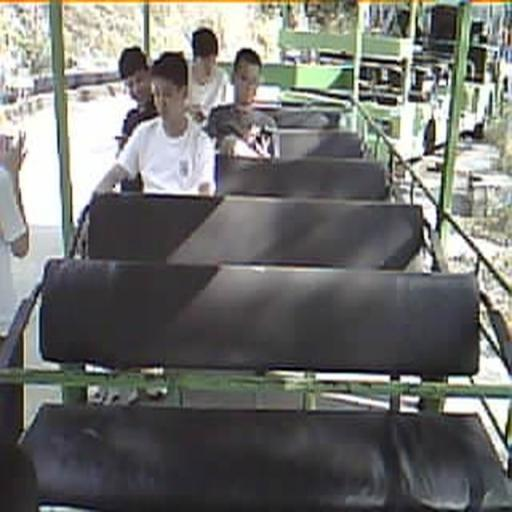persona: (76, 50, 218, 226), (206, 47, 279, 160), (115, 45, 159, 152), (185, 26, 226, 120)
